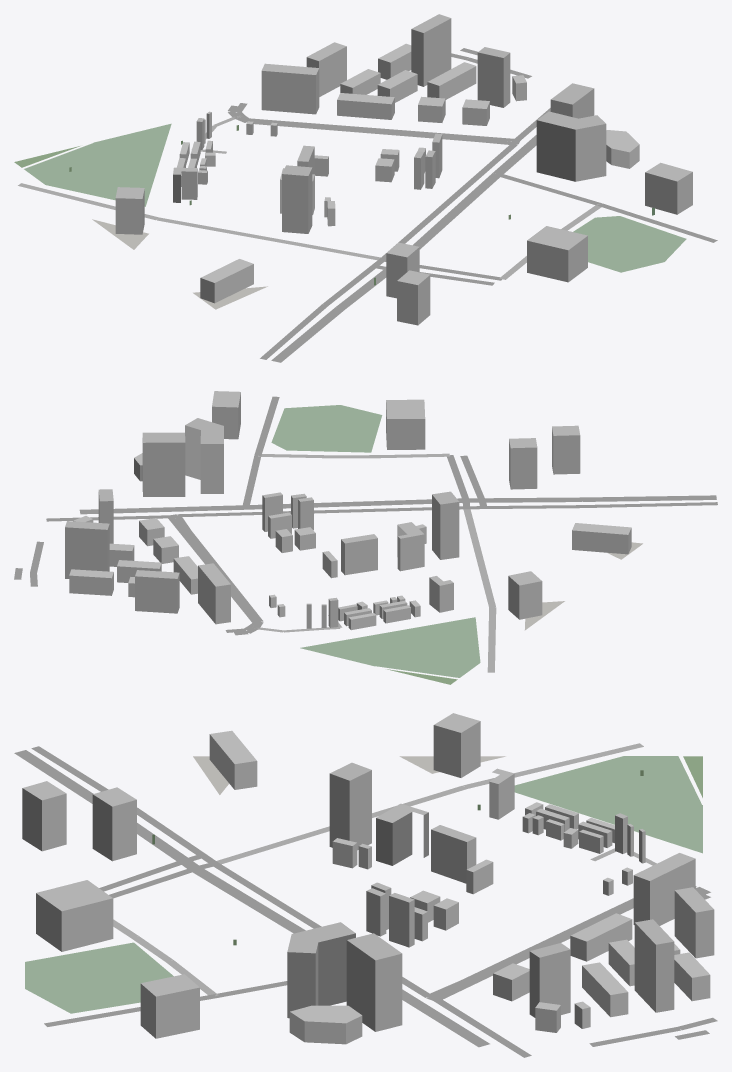
3 renders of one model, top to bottom at view 1: azimuth 30°, elevation 25°; view 2: azimuth 150°, elevation 25°; view 3: azimuth 270°, elevation 25°, orthographic. The views are drawn at different scales.
Size of the model in its own units: 554 by 60.55 by 519.
